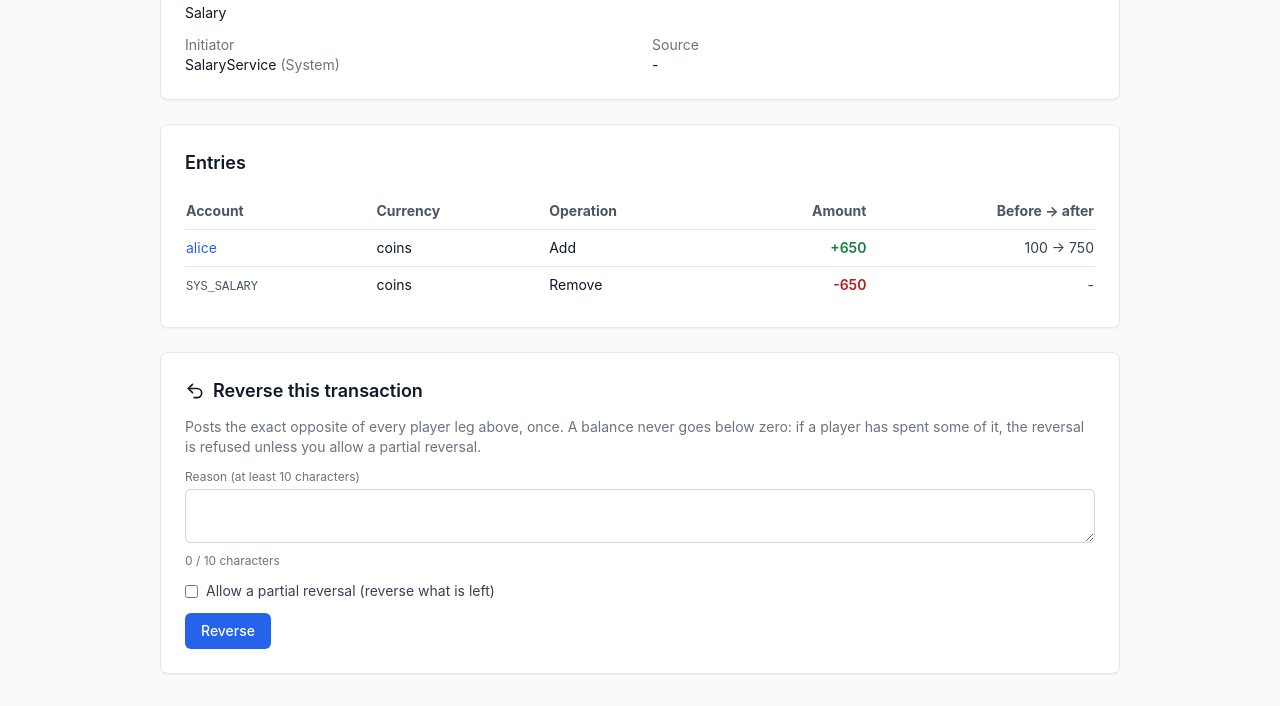
Test case: TransactionDetailPage › counts the reason as it is typed, and says why a short reason is not sent (KNG-126)
The image size is (1280, 706).
(page scrolled)
Check: the text "SYS_SALARY" is shown, box [186,280,258,294]
Check: the text "0 / 10 characters" is shown, box [185,553,280,568]
Note: Surrounding spaces don't count, as on the API.
In the text box labelled "Reason (at least 10 characters)": x=640, y=516 [185,489,1095,543], type "  too short "
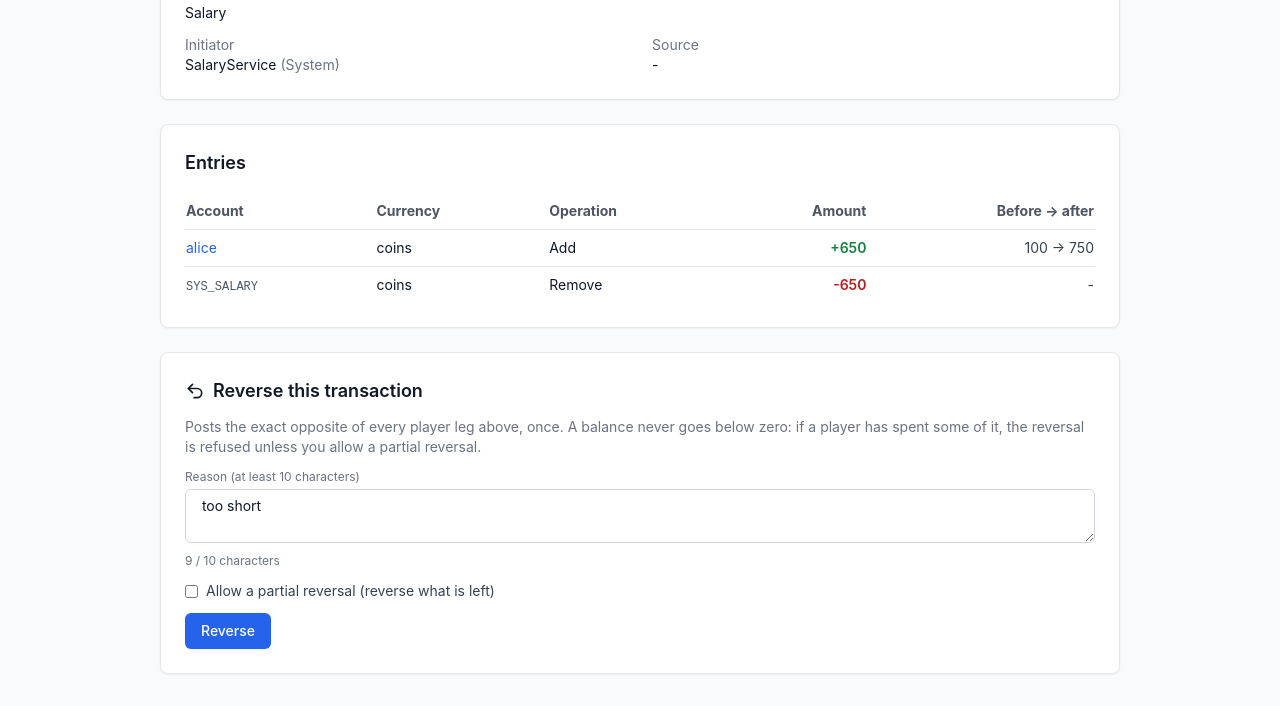
Click the button "Reverse": x=228, y=631 [185,613,271,649]
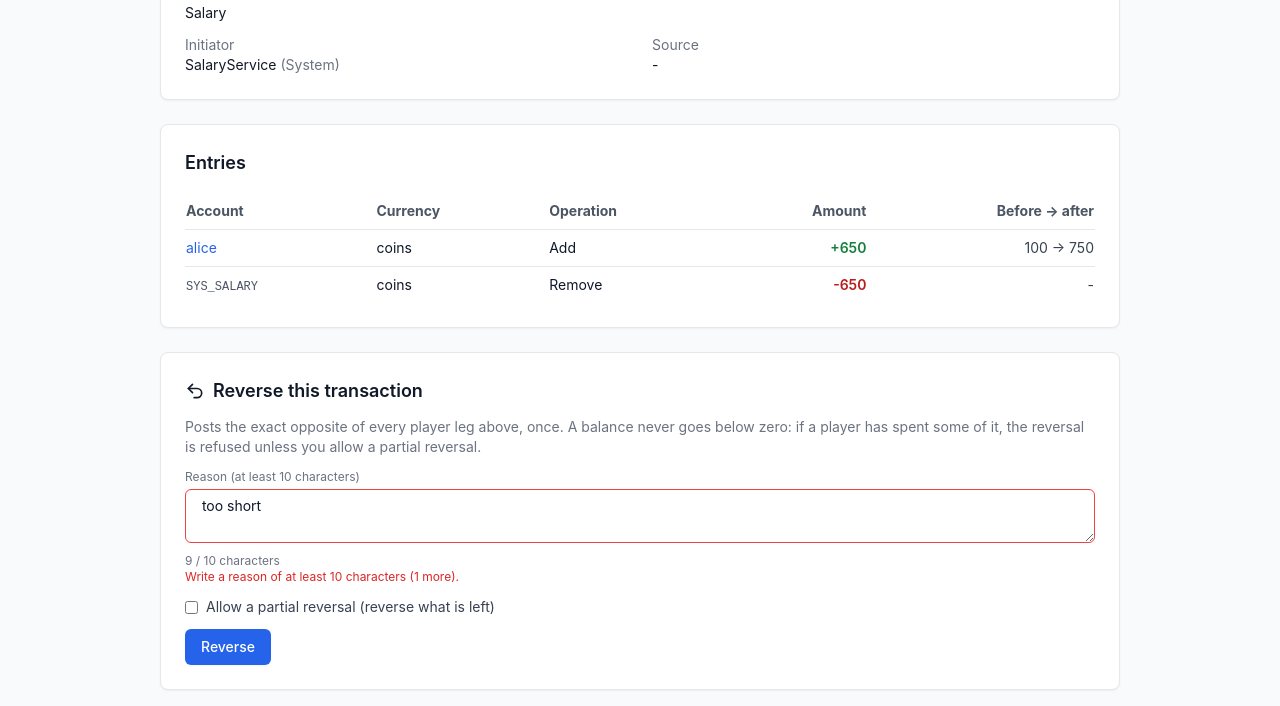
Note: The message goes away as soon as the reason is long enough.
Replace the text in the text box labelled "Reason (at least 10 characters)" with "too short!": x=640, y=516 [185,489,1095,543]
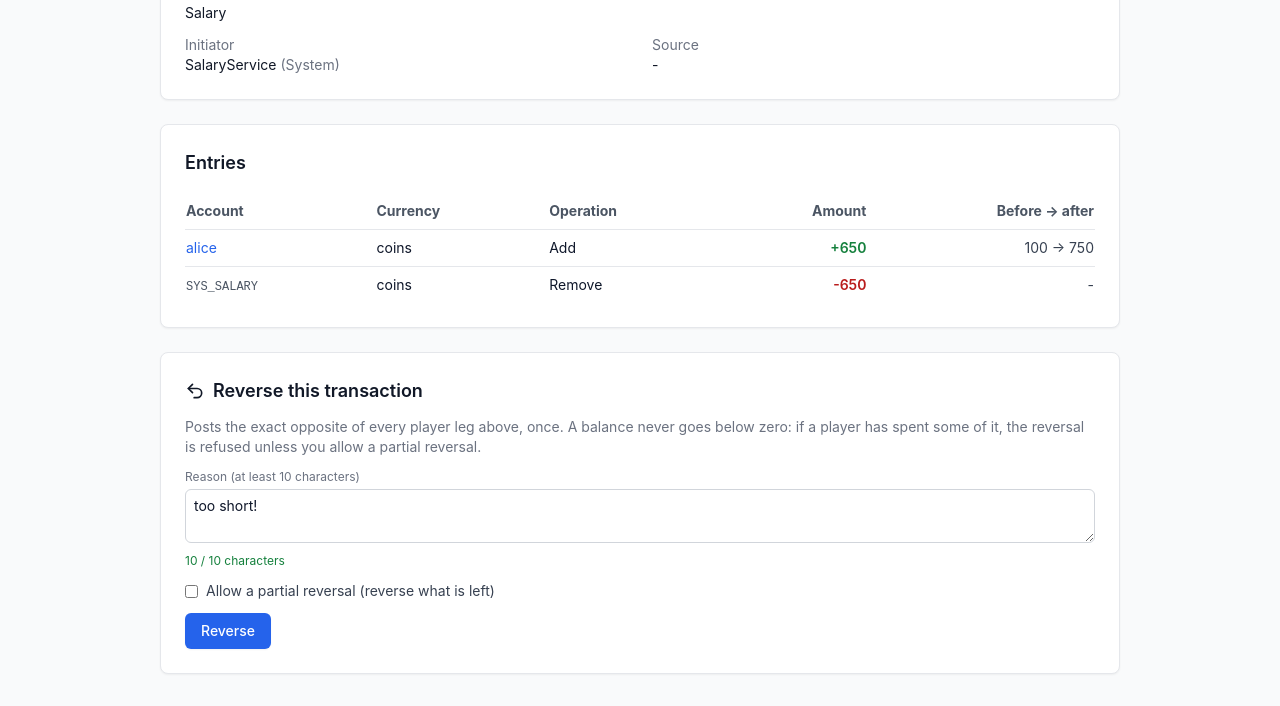
Check: the text "10 / 10 characters" is shown, box [185,553,285,568]
Check: the text "Write a reason of at least" is gone
